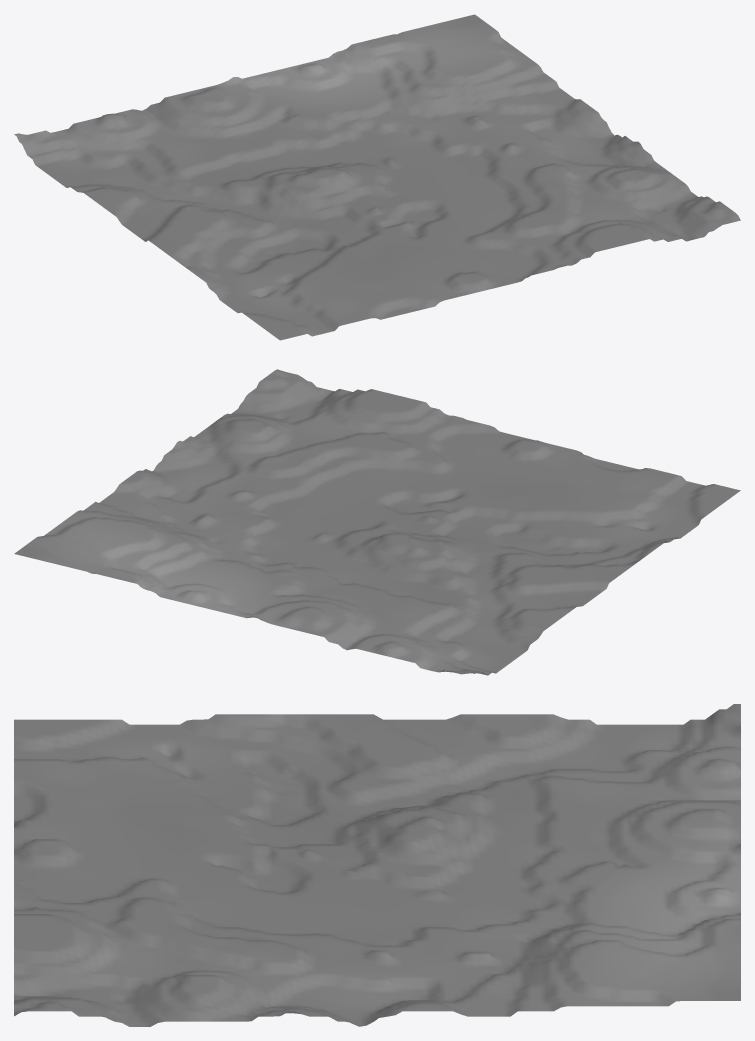
File: TerrianMesh.fbx
The picture shows the model from 3 angles, top to bottom: view 1: azimuth 30°, elevation 25°; view 2: azimuth 150°, elevation 25°; view 3: azimuth 270°, elevation 25°; orthographic projection. The views are drawn at different scales.
Parts seen in each view (by area): view 1: Heightmap; view 2: Heightmap; view 3: Heightmap.
Part boxes in pixels (x1=…): Heightmap: x1=14, y1=14, x2=740, y2=340; Heightmap: x1=14, y1=369, x2=740, y2=675; Heightmap: x1=14, y1=704, x2=740, y2=1026.
Size of the model in its own units: 100 by 5.69 by 100.
